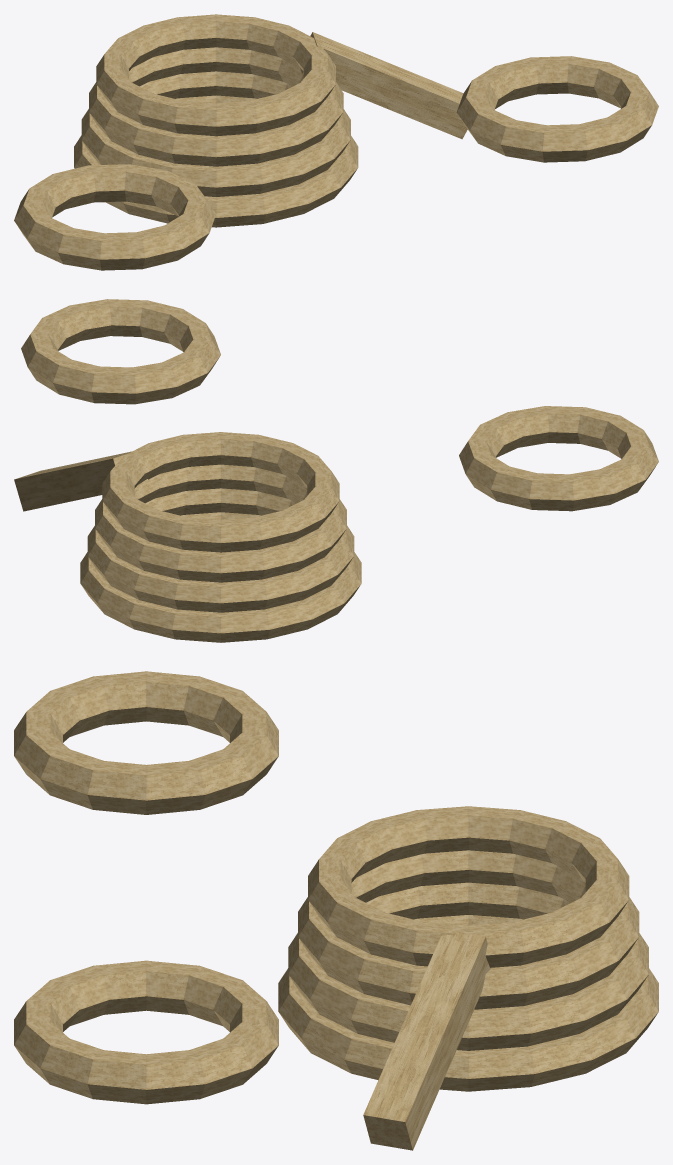
The model's file is PRP_SHELTER_ROPE_001.obj.
The picture shows the model from 3 angles, top to bottom: view 1: azimuth 30°, elevation 25°; view 2: azimuth 150°, elevation 25°; view 3: azimuth 270°, elevation 25°; orthographic projection. The views are drawn at different scales.
Visible parts, largest first — view 1: ChunkyCoil, OversizeBindingLoop, ReadableLooseEnd; view 2: ChunkyCoil, OversizeBindingLoop, ReadableLooseEnd; view 3: ChunkyCoil, OversizeBindingLoop, ReadableLooseEnd.
Part boxes in pixels (box(x1,y1,x2,y2)): ChunkyCoil: box(74, 14, 358, 227); OversizeBindingLoop: box(14, 56, 658, 270); ReadableLooseEnd: box(300, 32, 467, 139); ChunkyCoil: box(80, 432, 361, 642); OversizeBindingLoop: box(21, 299, 658, 511); ReadableLooseEnd: box(14, 450, 148, 511); ChunkyCoil: box(278, 806, 658, 1091); OversizeBindingLoop: box(14, 671, 278, 1104); ReadableLooseEnd: box(363, 929, 491, 1150).
Size of the model in its own units: 0.95 by 0.1607 by 0.6407.
Materials: 1 (1 with a texture image).
